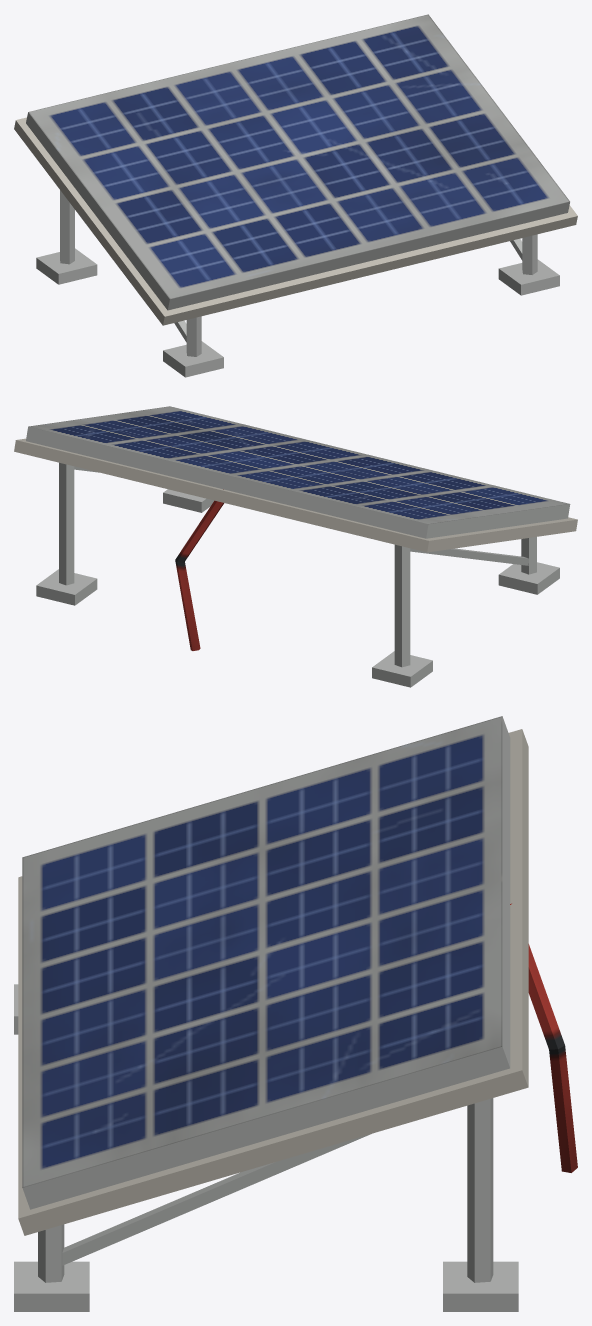
Rendered from part_solar.fbx.
3 views of the same model, one above another, from view 1: azimuth 30°, elevation 25°; view 2: azimuth 150°, elevation 25°; view 3: azimuth 270°, elevation 25° (orthographic). The views are drawn at different scales.
Parts seen in each view (by area): view 1: part_solar; view 2: part_solar; view 3: part_solar.
Boxes of the visible parts, box(x1,y1,x2,y2) form: part_solar: box(14, 14, 577, 377); part_solar: box(14, 406, 577, 687); part_solar: box(14, 716, 577, 1311).
Bounding box in the file's own units: 0.64 × 0.2428 × 0.447.
Materials: 1 (1 with a texture image).
